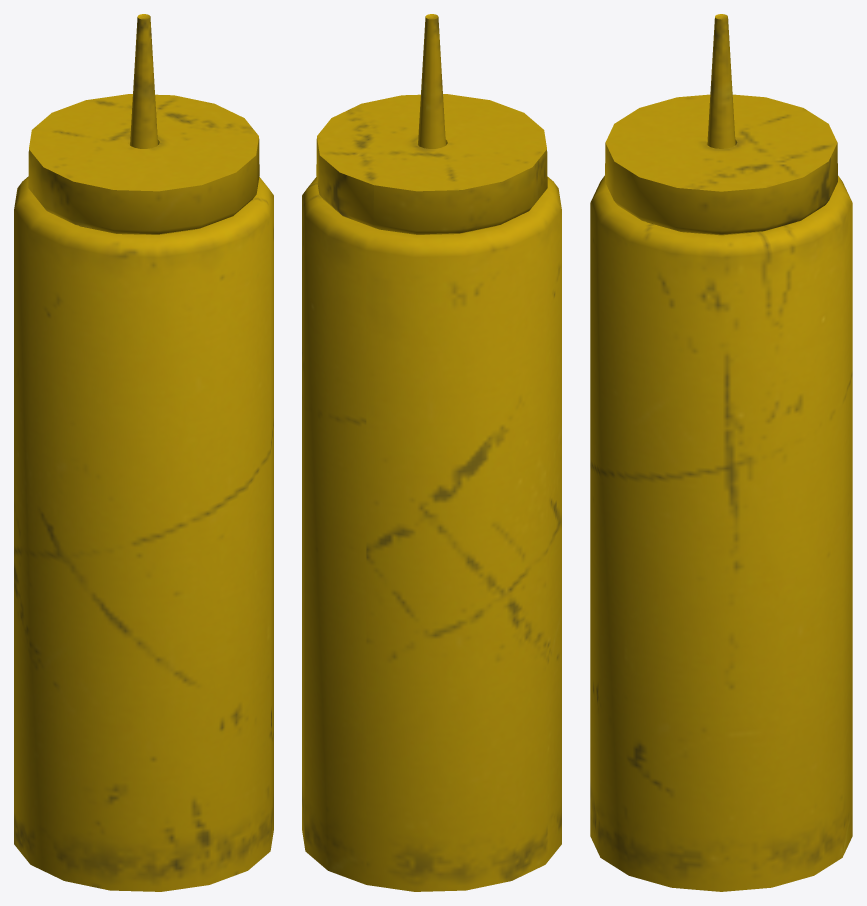
Rendered from Prop_Mayonnaise.fbx.
The picture shows the model from 3 angles, left to right: view 1: azimuth 30°, elevation 25°; view 2: azimuth 150°, elevation 25°; view 3: azimuth 270°, elevation 25°; orthographic projection.
Visible parts, largest first — view 1: Prop_Mayonnaise; view 2: Prop_Mayonnaise; view 3: Prop_Mayonnaise.
Part boxes in pixels (<box>): Prop_Mayonnaise: <box>14,14,273,891</box>; Prop_Mayonnaise: <box>302,14,561,891</box>; Prop_Mayonnaise: <box>590,14,852,891</box>.
Size of the model in its own units: 3.3 by 11.38 by 3.3.
